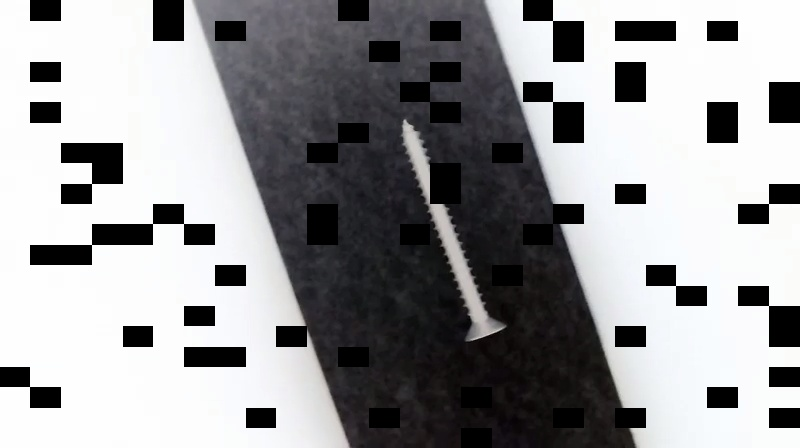S002: (398, 117, 509, 345)
